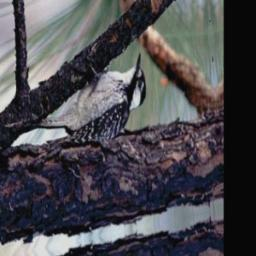Woodpecker: (31, 50, 150, 158)
